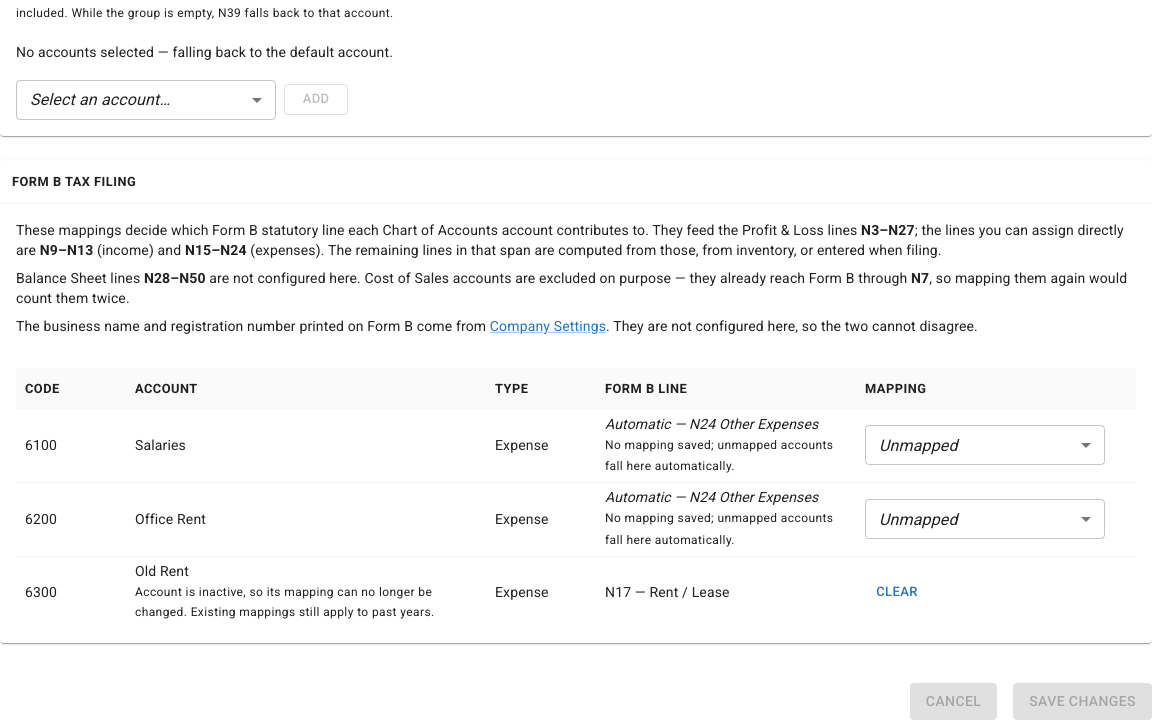
AccountingSettingsPage — page-level save › reports a staged edit through the action controls alone
(page scrolled)
Expected: the element with test id "settings-action-bar" does not show "unsaved changes", left=910, top=684, right=1152, bottom=719
Click the dropdown labelled "Unmapped" in the row of "6100": (918, 445) left=879, top=436, right=958, bottom=455
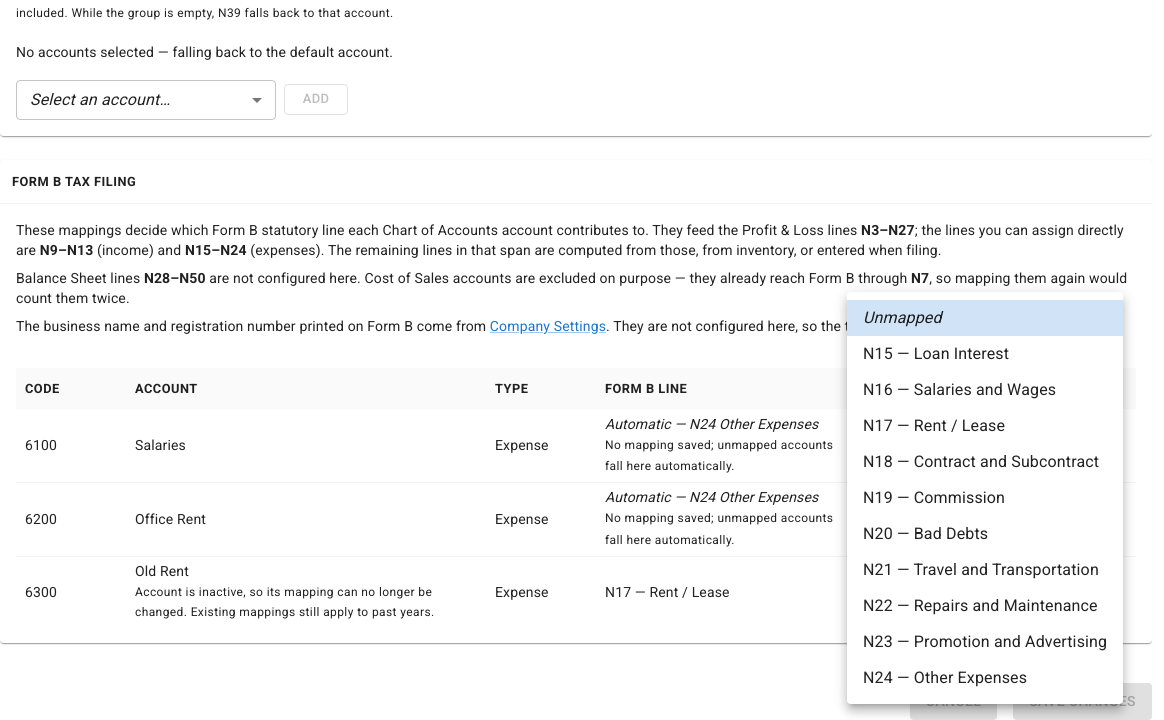
Click the option "N16 — Salaries and Wages": (960, 390) left=863, top=380, right=1056, bottom=399
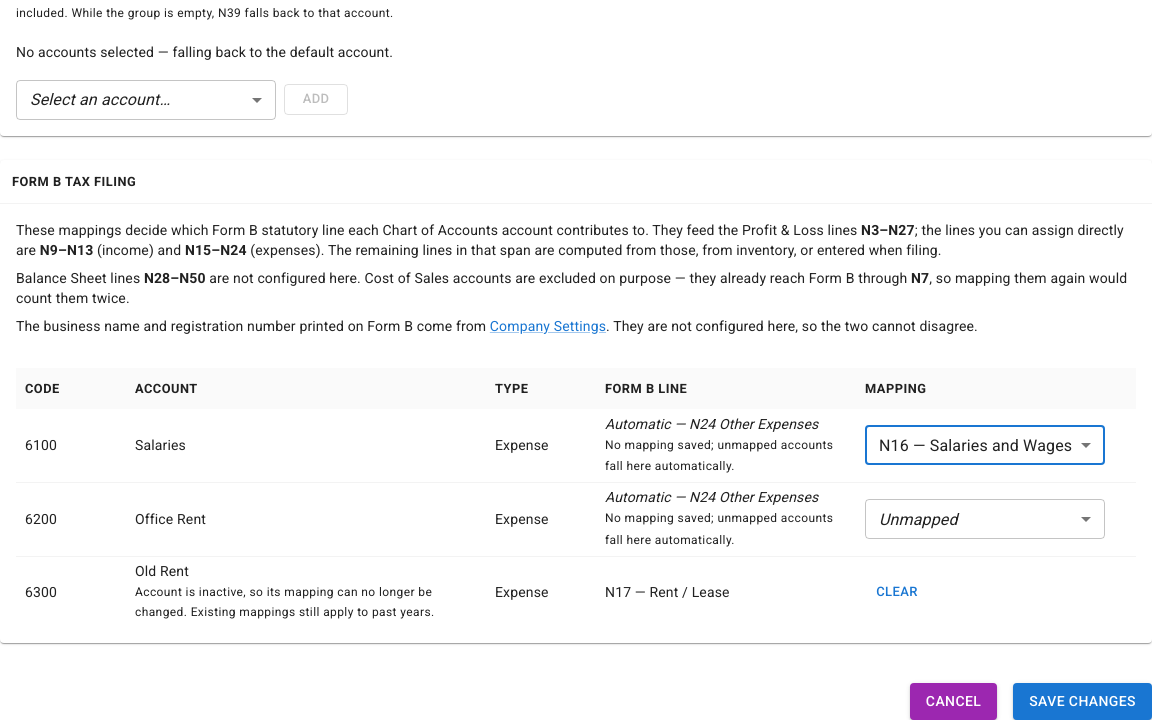
Expected: the element with test id "settings-action-bar" does not show "unsaved changes", left=910, top=684, right=1152, bottom=719
Expected: the element with test id "formb-map-select-a1" shows "N16 — Salaries", left=865, top=425, right=1105, bottom=465
Expected: the button "Save Changes" is enabled, left=1013, top=684, right=1152, bottom=719
